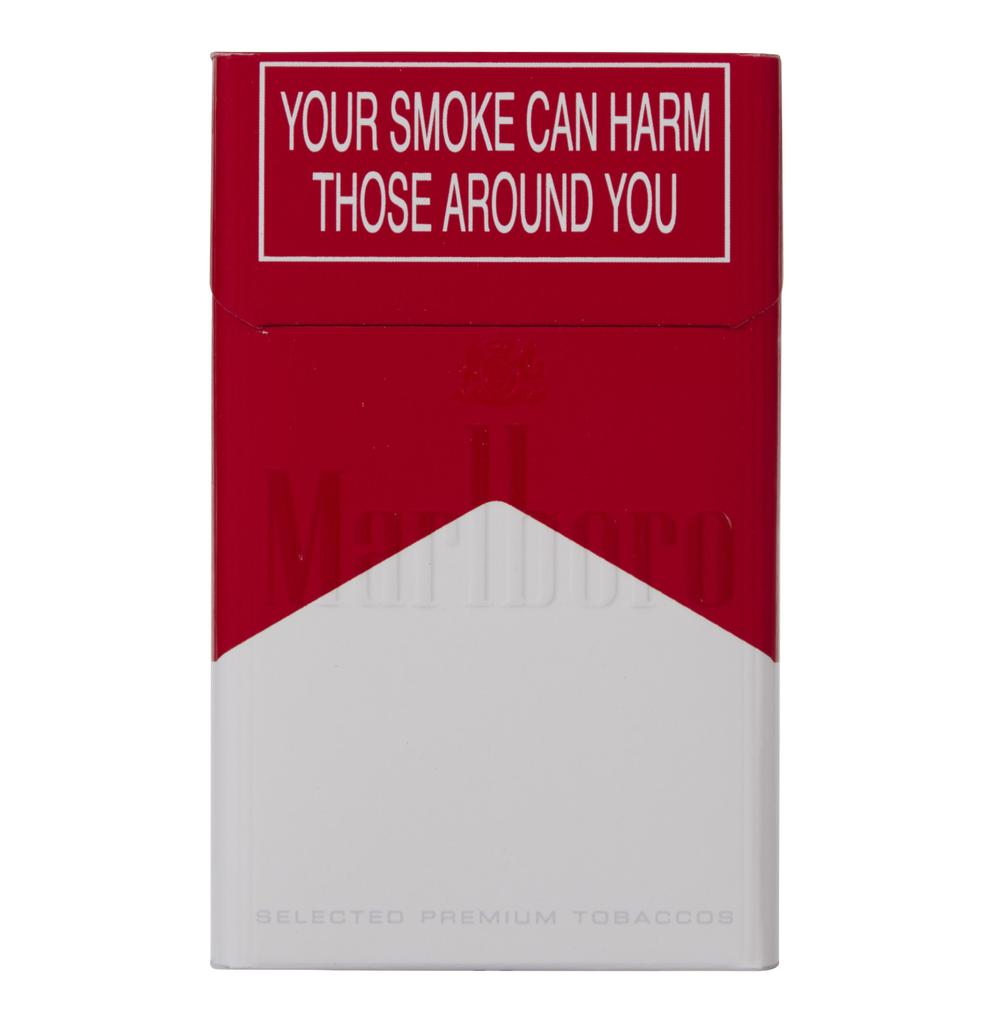marlboro_red: (213, 56, 776, 970)
